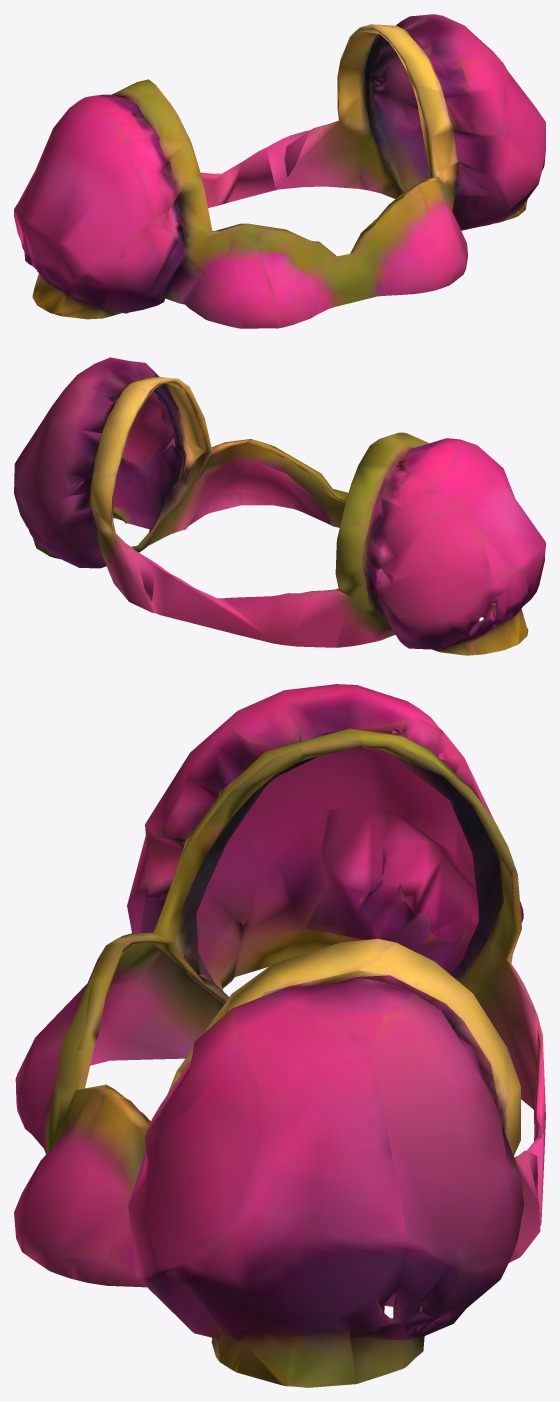
Rendered from costume-princess.glb.
3 renders of one model, top to bottom at view 1: azimuth 30°, elevation 25°; view 2: azimuth 150°, elevation 25°; view 3: azimuth 270°, elevation 25°, orthographic. The views are drawn at different scales.
Visible parts, largest first — view 1: material.001; view 2: material.001; view 3: material.001.
Part boxes in pixels (x1,y1,x2,y2): material.001: (14,14,545,328); material.001: (14,357,545,655); material.001: (14,684,545,1387).
Bounding box in the file's own units: 1.02 × 0.3616 × 0.5208.
Materials: 1 (1 with a texture image).
